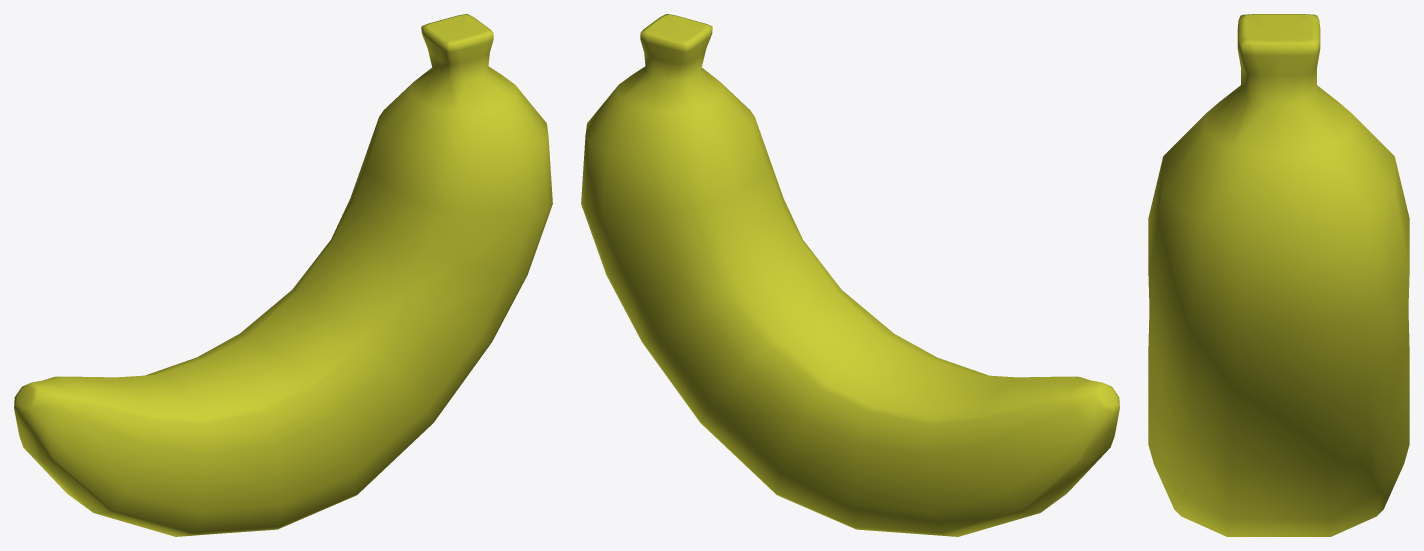
File: banana.glb
The picture shows the model from 3 angles, left to right: view 1: azimuth 30°, elevation 25°; view 2: azimuth 150°, elevation 25°; view 3: azimuth 270°, elevation 25°; orthographic projection. The views are drawn at different scales.
Visible parts, largest first — view 1: Banana; view 2: Banana; view 3: Banana.
Part boxes in pixels (left/top/right/bottom): Banana: left=14, top=14, right=552, bottom=536; Banana: left=581, top=14, right=1119, bottom=536; Banana: left=1148, top=14, right=1409, bottom=536.
Bounding box in the file's own units: 2.19 × 1.77 × 0.6699.
